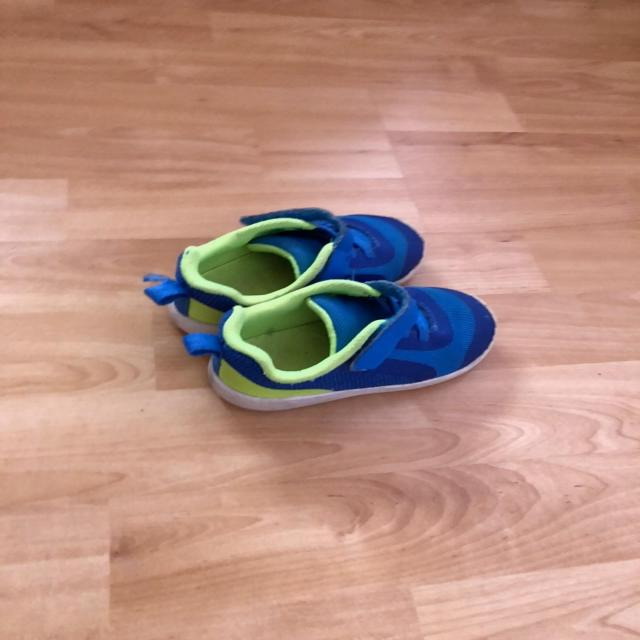shoe: (207, 282, 497, 413), (152, 209, 425, 338)
